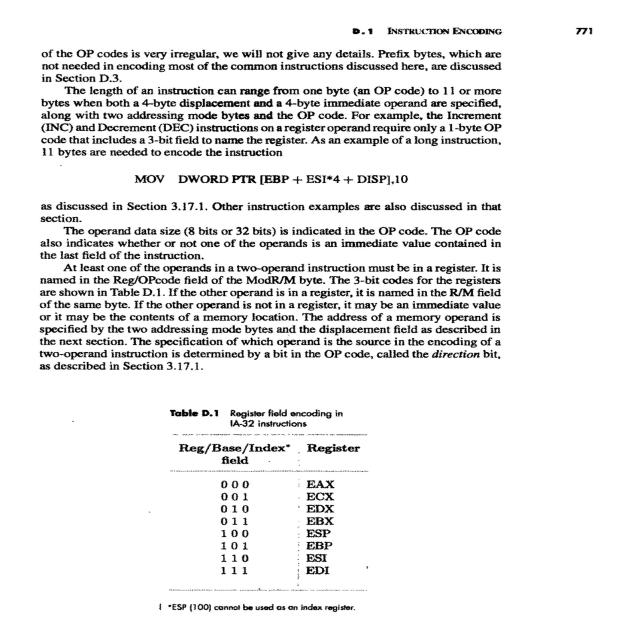diagram: (110, 382, 418, 640)
